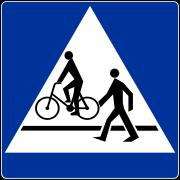Cycle Crossing: (11, 19, 168, 168)
